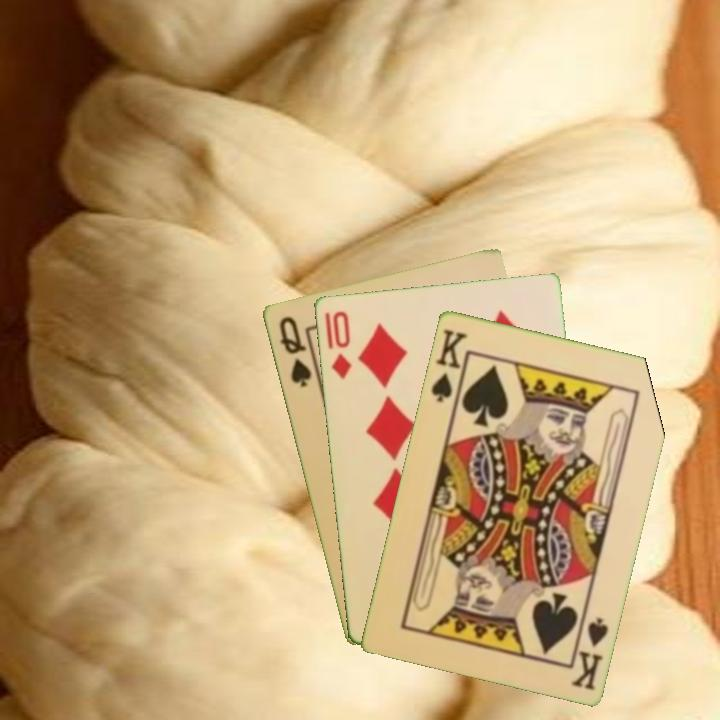10d: (327, 307, 355, 382)
Ks: (567, 607, 611, 693), (427, 325, 470, 408)
Qs: (275, 312, 314, 390)
